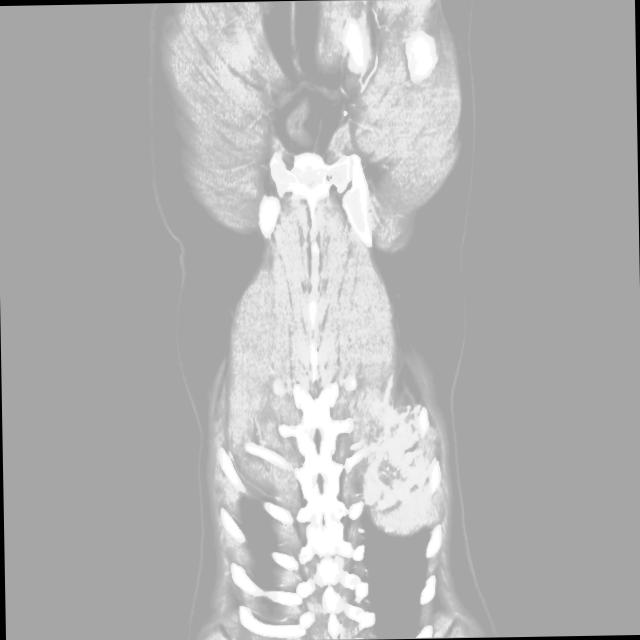TUMOR: (131, 216, 492, 529)
